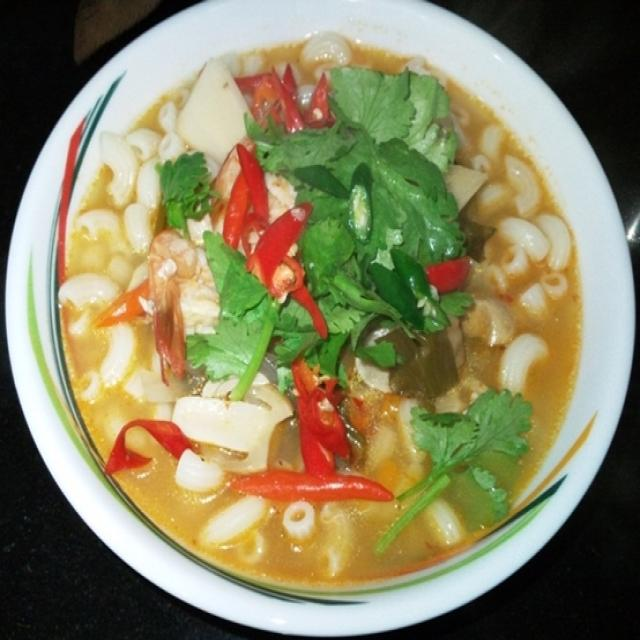汤锅炖物: (23, 21, 614, 613)
